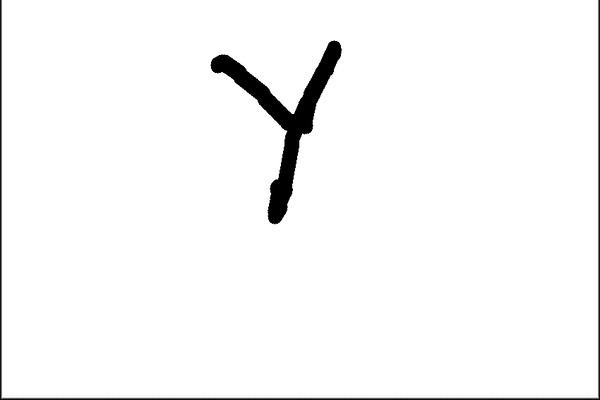Y: (201, 29, 345, 230)
